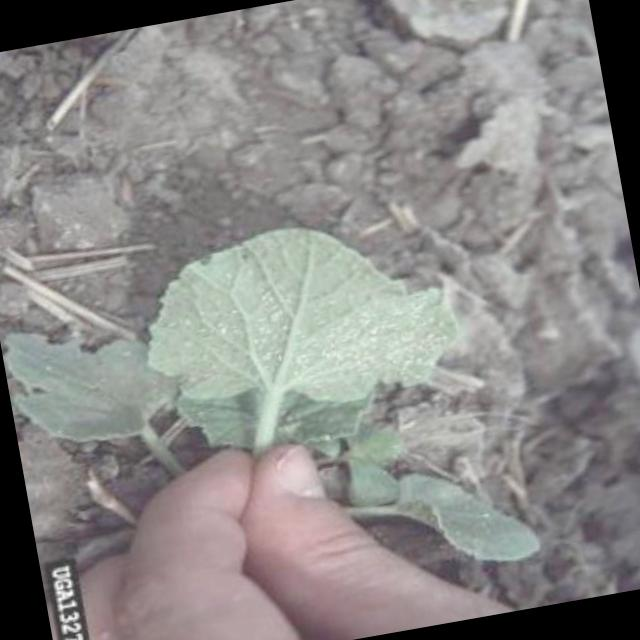Silverleaf whitefly: (125, 202, 472, 450)
